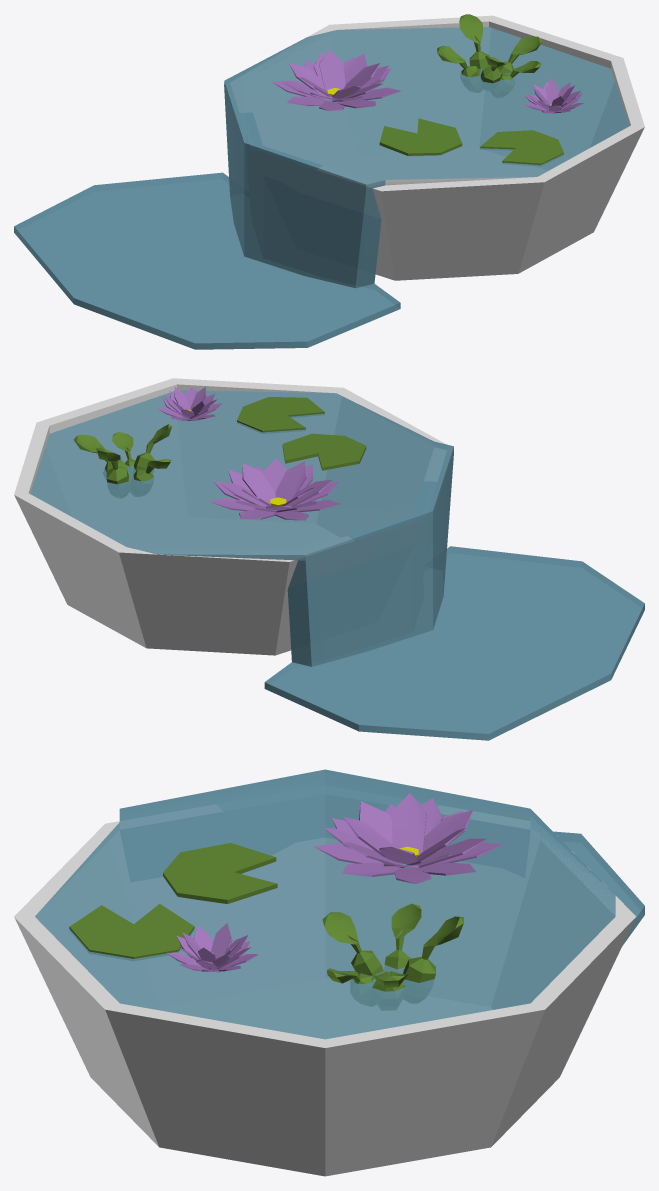
The model's file is LotusPond.fbx.
The picture shows the model from 3 angles, top to bottom: view 1: azimuth 30°, elevation 25°; view 2: azimuth 150°, elevation 25°; view 3: azimuth 270°, elevation 25°; orthographic projection. The views are drawn at different scales.
Parts seen in each view (by area): view 1: LotusPond; view 2: LotusPond; view 3: LotusPond.
Part boxes in pixels (x1,y1,x2,y2): LotusPond: (14,14,644,349); LotusPond: (14,378,644,740); LotusPond: (14,769,644,1176).
Bounding box in the file's own units: 3.85 × 0.9961 × 2.65.
